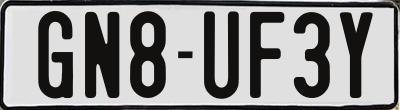3: (292, 10, 331, 99)
8: (128, 9, 165, 96)
F: (250, 10, 285, 101)
G: (38, 11, 73, 102)
N: (84, 9, 121, 99)
U: (201, 9, 236, 99)
Y: (338, 11, 376, 99)
